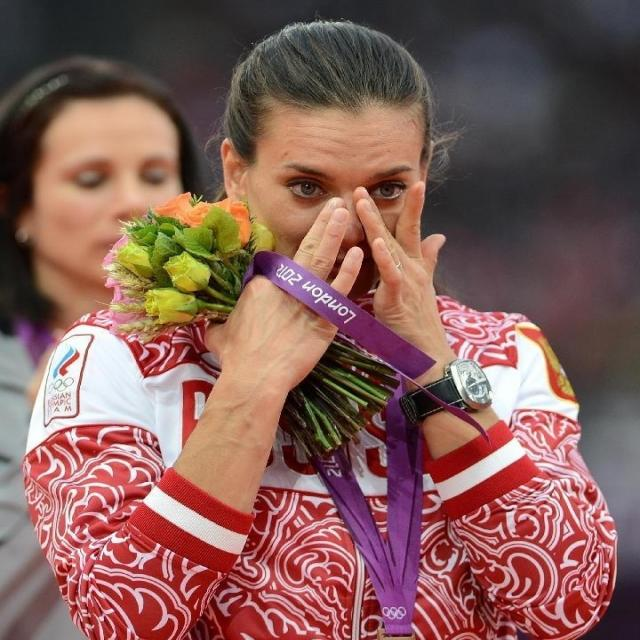nomask: (242, 100, 424, 296), (32, 99, 178, 288)
